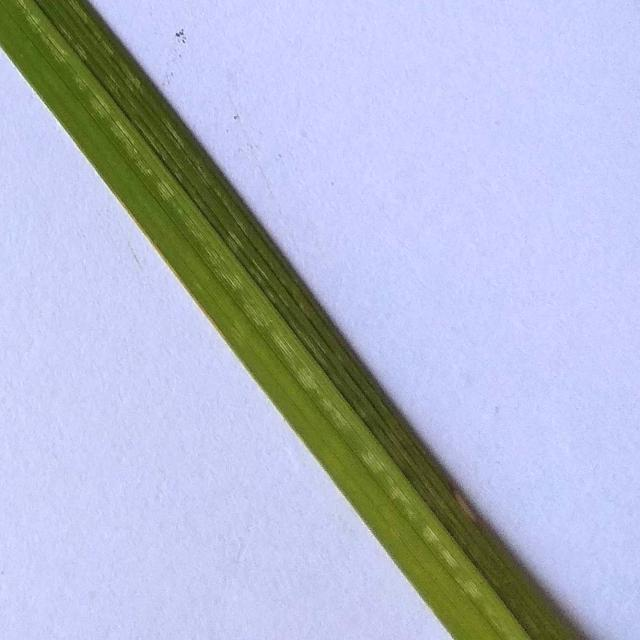Blast: (451, 486, 480, 522)
